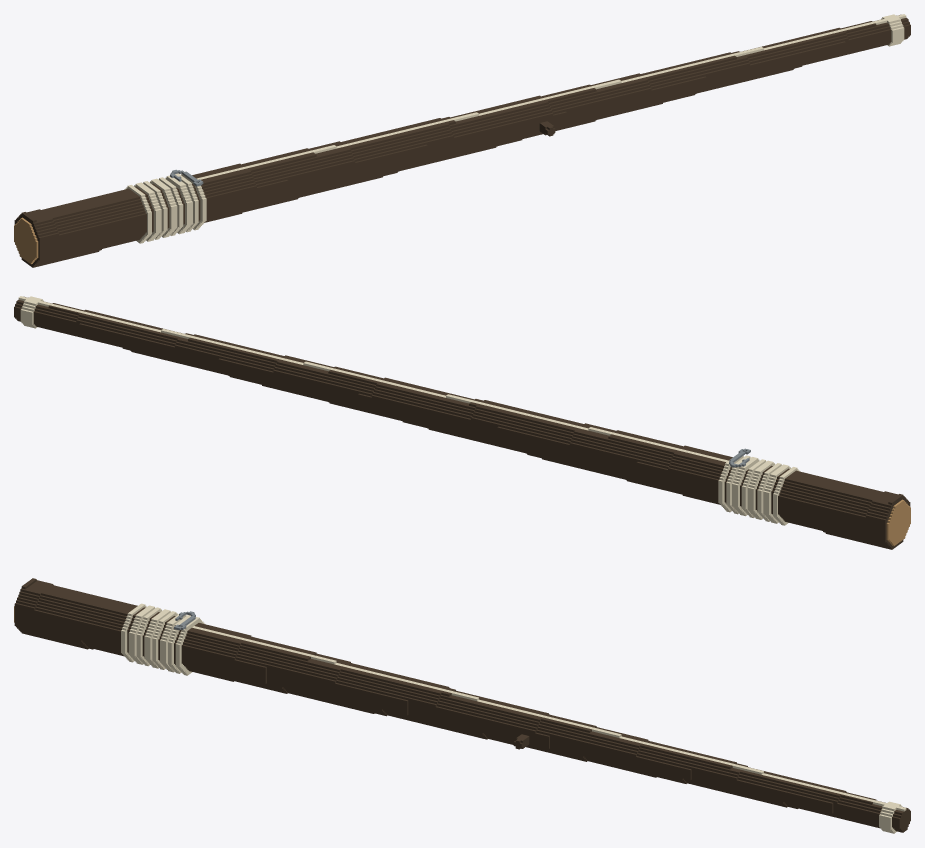
Rendered from fishing_rod_basic.glb.
The picture shows the model from 3 angles, top to bottom: view 1: azimuth 30°, elevation 25°; view 2: azimuth 150°, elevation 25°; view 3: azimuth 330°, elevation 25°; orthographic projection.
Parts seen in each view (by area): view 1: fishing_rod_basic:compound; view 2: fishing_rod_basic:compound; view 3: fishing_rod_basic:compound.
Part boxes in pixels (x1,y1,x2,y2): fishing_rod_basic:compound: (14, 14, 910, 267); fishing_rod_basic:compound: (14, 296, 910, 549); fishing_rod_basic:compound: (14, 578, 910, 833).
Bounding box in the file's own units: 0.902 × 0.05 × 0.054.
